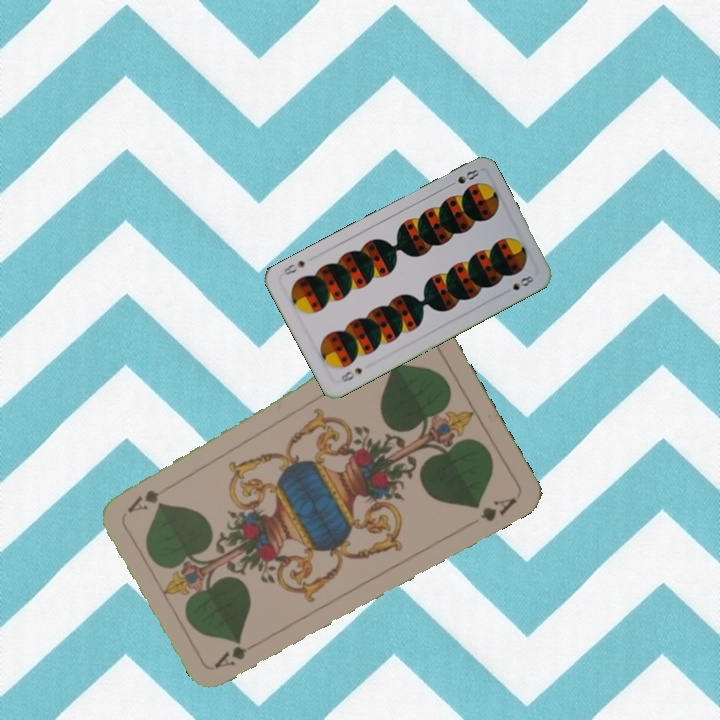GA: (211, 636, 266, 671)
S8: (453, 165, 482, 186), (337, 364, 365, 385)
